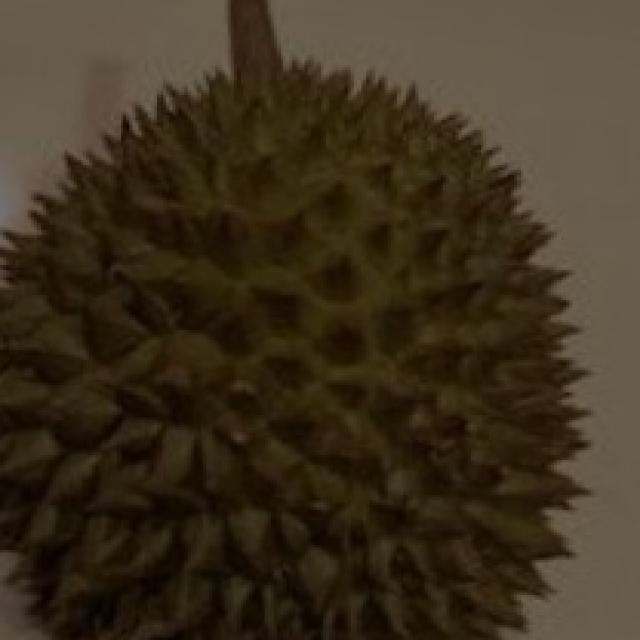fruit: (0, 28, 360, 510), (231, 262, 615, 640), (3, 267, 366, 640)
